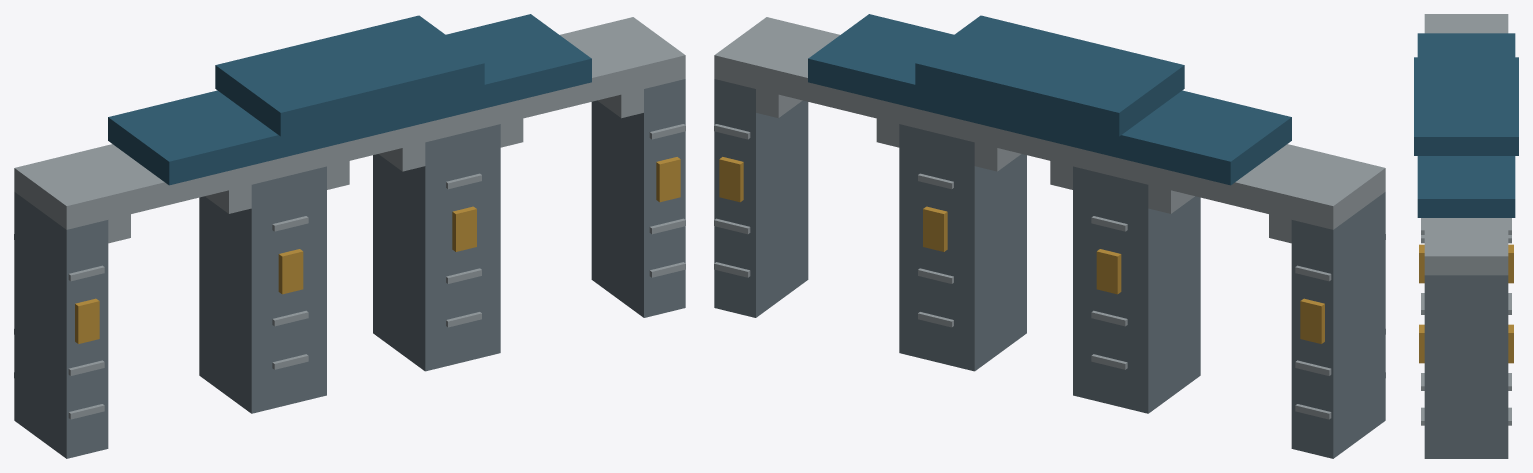
The model's file is Blockland_TripleArch_Showcase.glb.
3 renders of one model, left to right at view 1: azimuth 30°, elevation 25°; view 2: azimuth 150°, elevation 25°; view 3: azimuth 270°, elevation 25°, orthographic. The views are drawn at different scales.
Parts seen in each view (by area): view 1: Blockland_TripleArch_Showcase; view 2: Blockland_TripleArch_Showcase; view 3: Blockland_TripleArch_Showcase.
Part boxes in pixels (x1,y1,x2,y2): Blockland_TripleArch_Showcase: [14, 14, 685, 458]; Blockland_TripleArch_Showcase: [714, 14, 1385, 458]; Blockland_TripleArch_Showcase: [1414, 14, 1518, 458].
Bounding box in the file's own units: 8.2 × 3.8 × 1.5.
